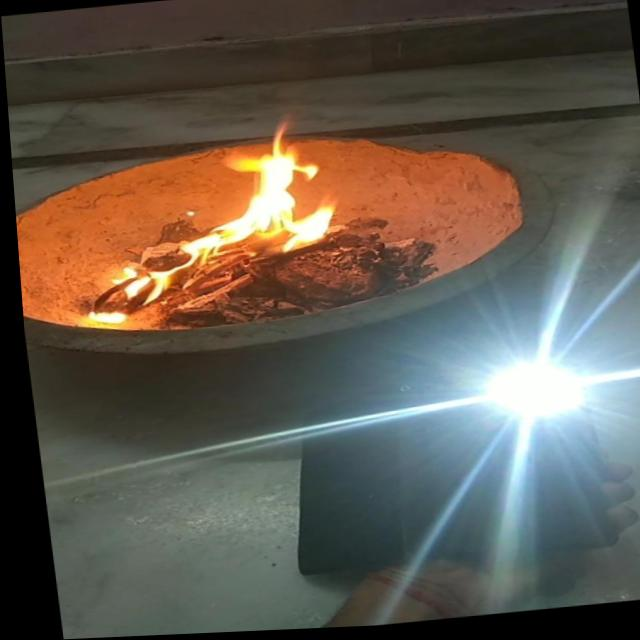fire: (60, 113, 352, 327)
